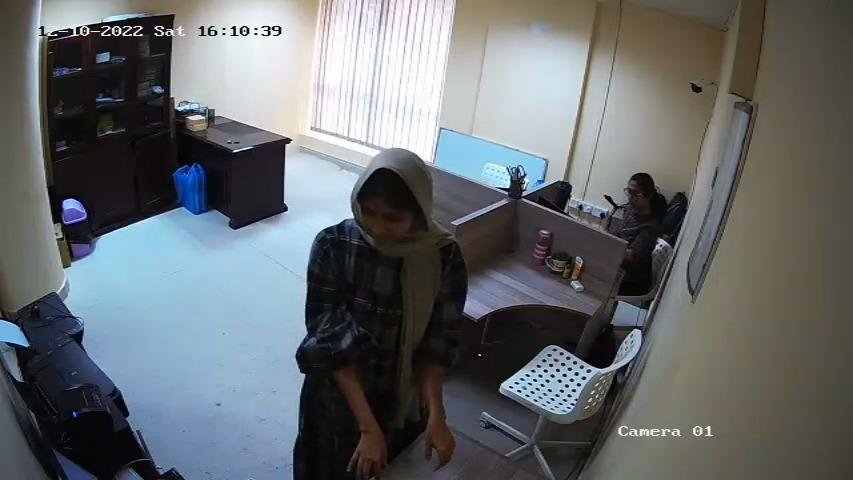no_gloves: (344, 419, 396, 480), (419, 421, 459, 472)
